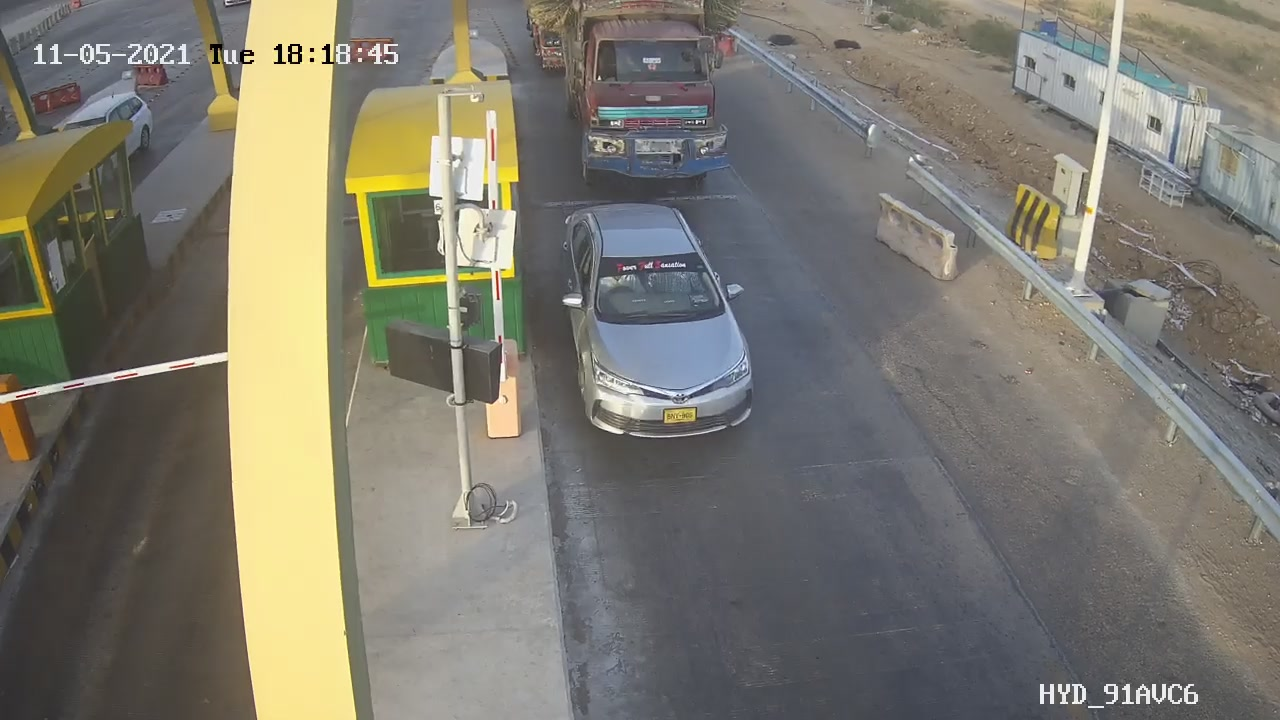F1: (548, 198, 770, 444)
F5: (540, 5, 760, 191)
